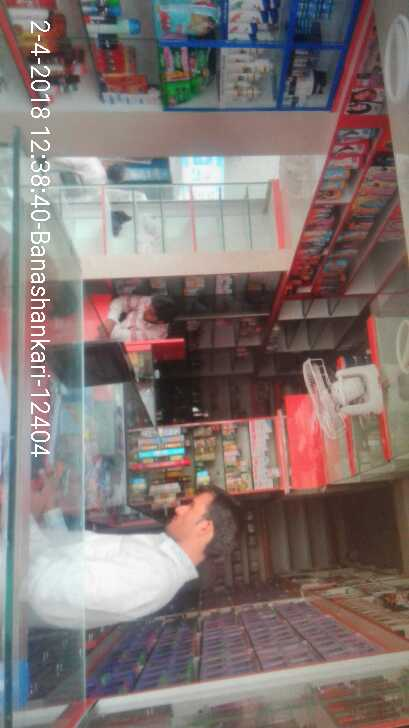vicks: (289, 1, 333, 37)
